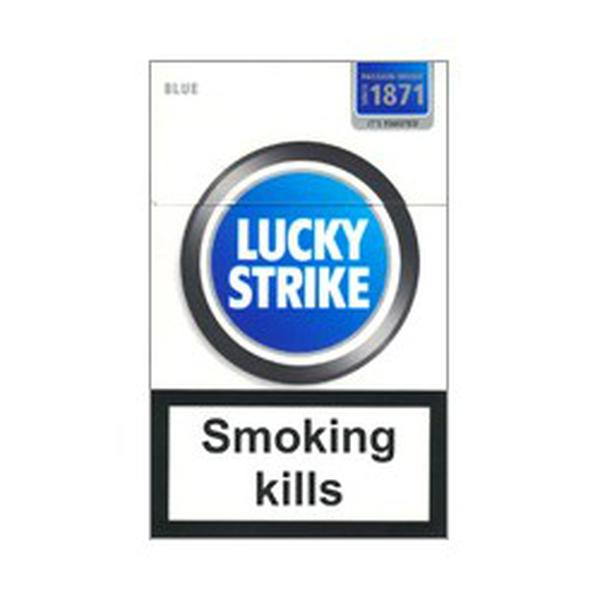lucky_strike_blue: (152, 64, 448, 539)
